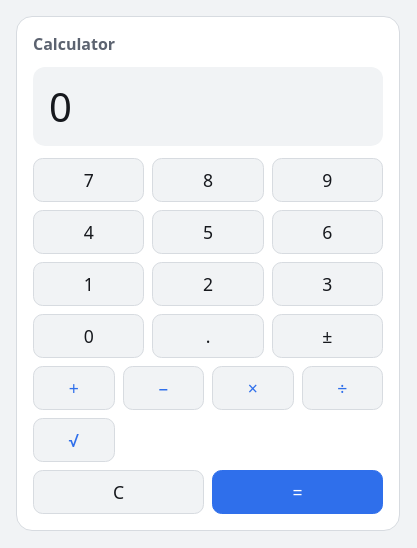
Test: calculating › shows the result
Expected: the button named "add" is shown, top-left (33, 366), bottom-right (114, 410)
Step 1. Click the button "2" → click(208, 284), box top-left (152, 262), bottom-right (264, 306)
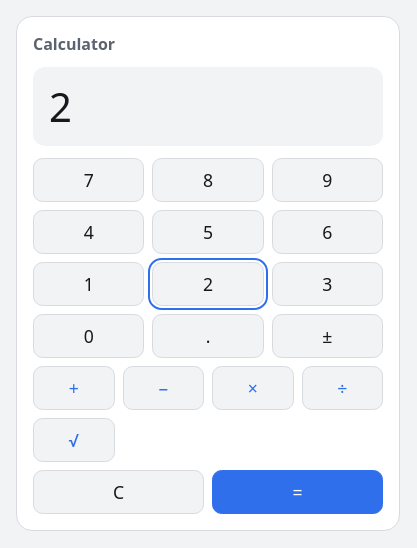
Step 2. Click the button named "add" → click(74, 388), box top-left (33, 366), bottom-right (114, 410)
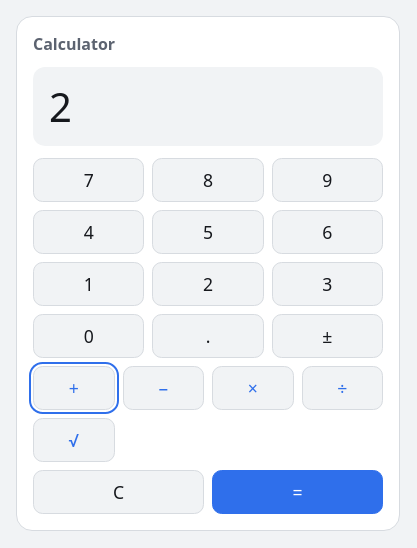
Step 3. Click the button "3" → click(327, 284), box top-left (272, 262), bottom-right (383, 306)
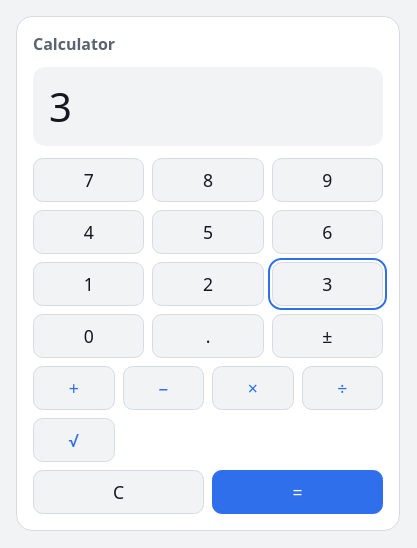
Step 4. Click the button named "equals" → click(298, 492), box top-left (212, 470), bottom-right (383, 514)
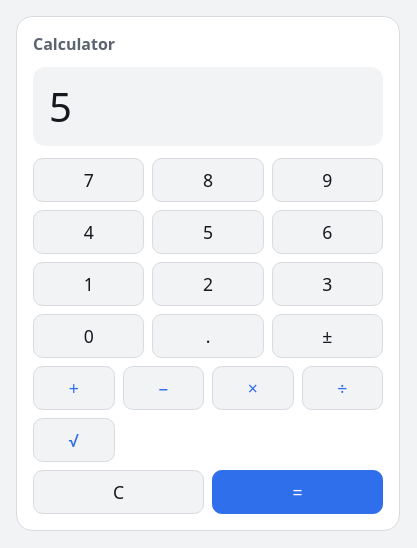
Result: the message reads "5" at top-left (49, 78), bottom-right (72, 134)
